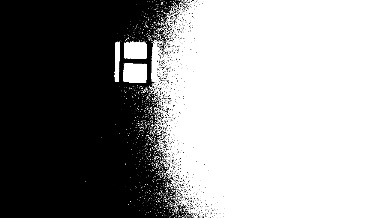H: (114, 40, 157, 80)
